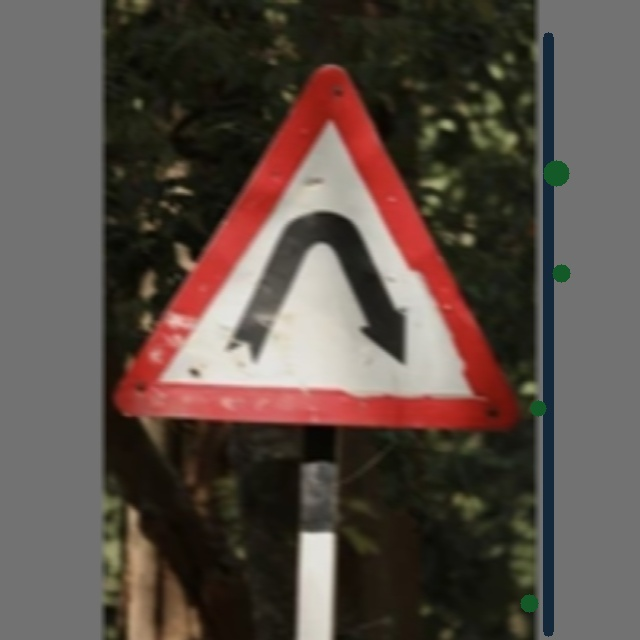Right_Hair_Pin_Bend: (128, 61, 502, 427)
